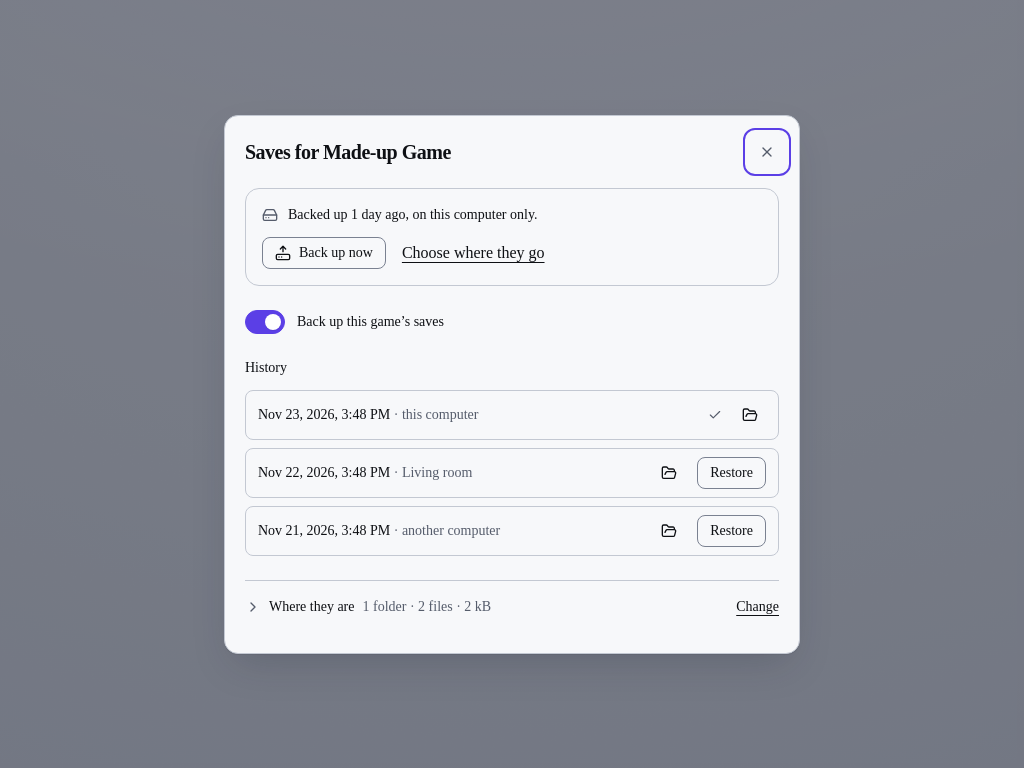
a game’s saves › back up now, and say so
The width and height of the screenshot is (1024, 768).
Check: the switch labelled "Back up this game’s saves" is shown, box x1=245 y1=310 x2=285 y2=334
Click the button "Back up now": (324, 252) x1=262 y1=236 x2=386 y2=268
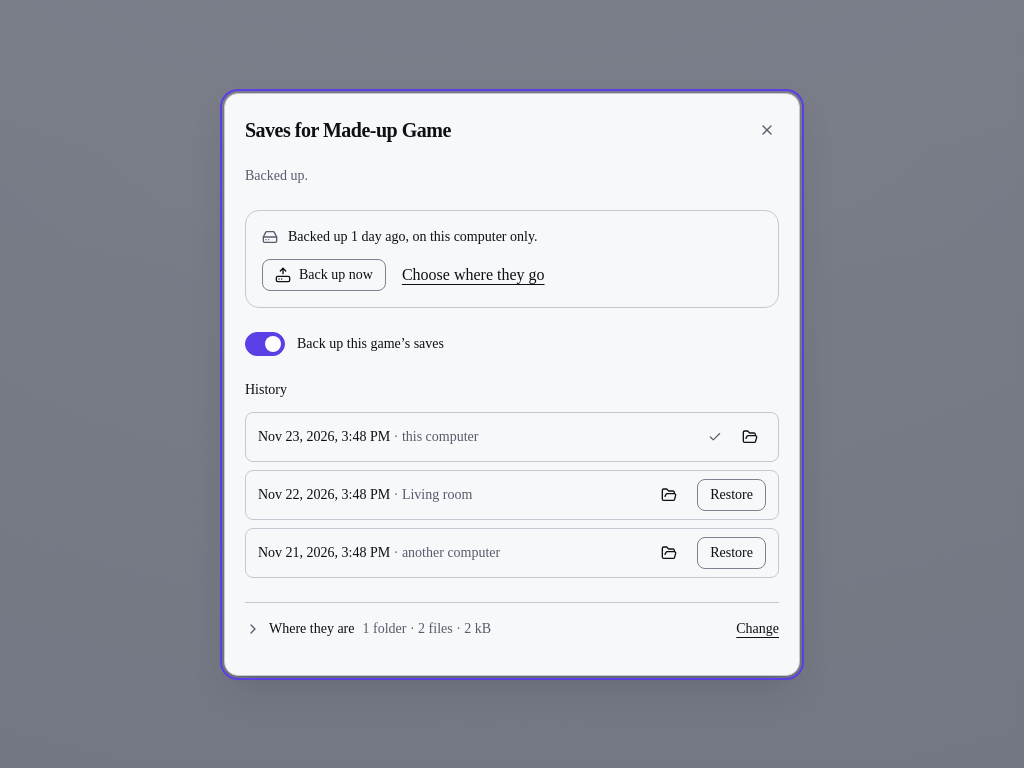
Check: the message reads "Backed up.", box x1=245 y1=168 x2=308 y2=182
